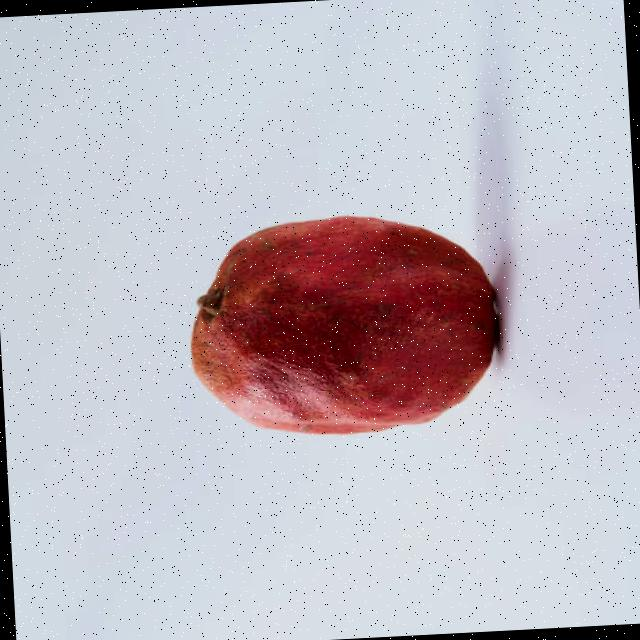overripe: (174, 205, 506, 450)
